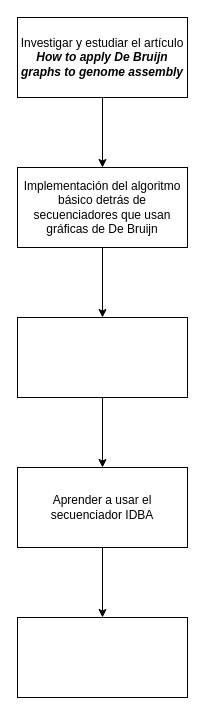
The diagram is 205 pixels wide and 715 high, and some of its shapes have lost their labels. The shapes that lost their labels are listed below. From the top down, each one's centre as x and y in pixels, then its label:
At (102,357): "Investigar y comprender cómo funciona el secuenciador IDBA".
At (102,657): "Entender estos conceptos desde la perspectiva en la biología.".
